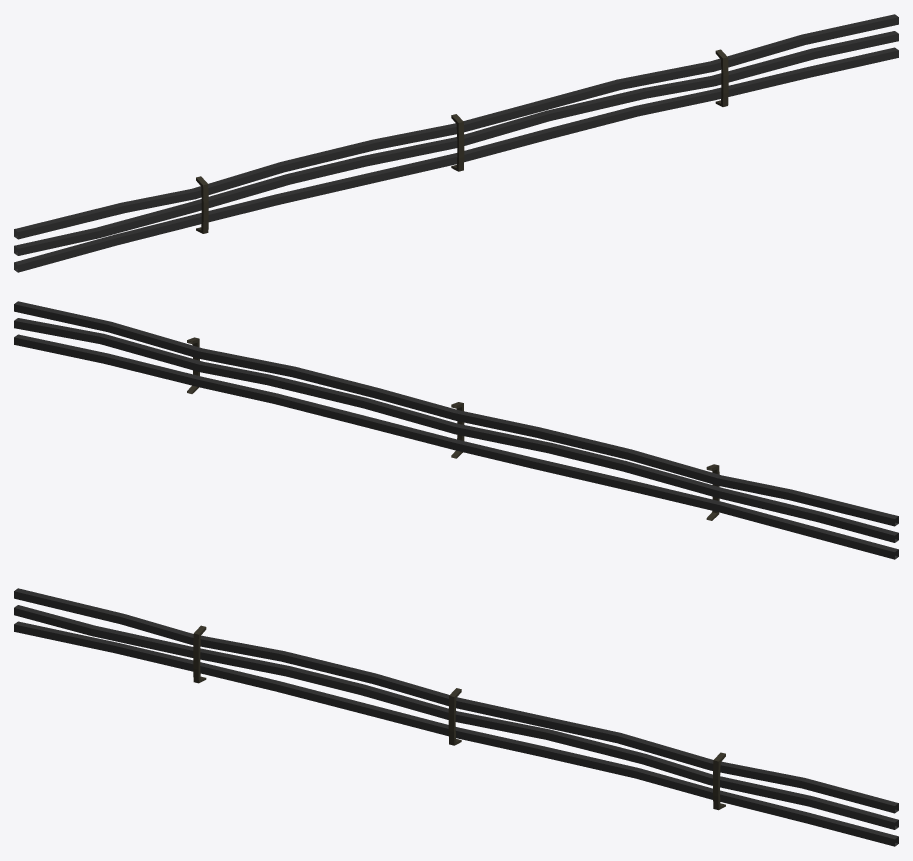
The model's file is SW_ENV_Wires3_FlatWall_02_05m.fbx.
The picture shows the model from 3 angles, top to bottom: view 1: azimuth 30°, elevation 25°; view 2: azimuth 150°, elevation 25°; view 3: azimuth 330°, elevation 25°; orthographic projection.
Parts seen in each view (by area): view 1: SW_ENV_Wires3_FlatWall_02_05m; view 2: SW_ENV_Wires3_FlatWall_02_05m; view 3: SW_ENV_Wires3_FlatWall_02_05m.
Boxes of the visible parts, x1,y1,x2,y2 form: SW_ENV_Wires3_FlatWall_02_05m: [14, 14, 898, 272]; SW_ENV_Wires3_FlatWall_02_05m: [14, 301, 898, 559]; SW_ENV_Wires3_FlatWall_02_05m: [14, 588, 898, 846].
Bounding box in the file's own units: 500 × 28.66 × 7.57.
